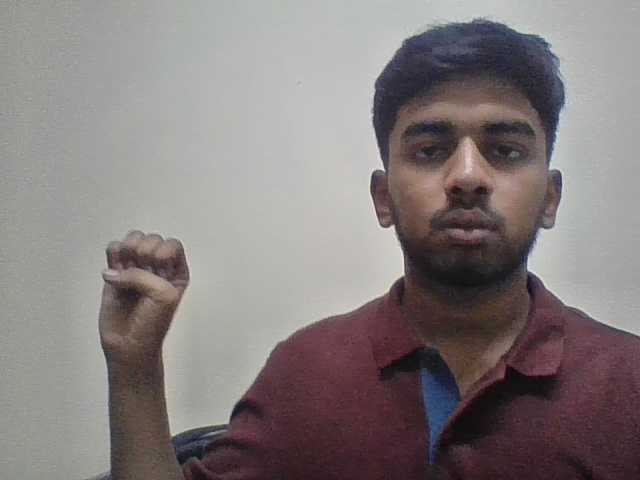E: (93, 213, 195, 364)
